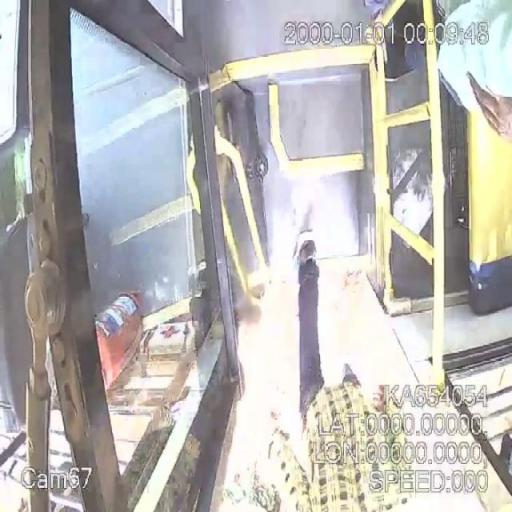persona: (270, 228, 414, 512)
